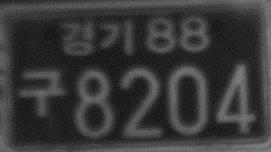0: (170, 66, 209, 139)
2: (119, 64, 161, 138)
4: (211, 61, 257, 140)
8: (74, 68, 117, 139), (177, 15, 210, 54), (145, 14, 175, 55)
경기_O: (59, 17, 137, 60)
구: (18, 63, 69, 120)
